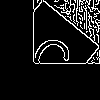C: (25, 24, 82, 83)
